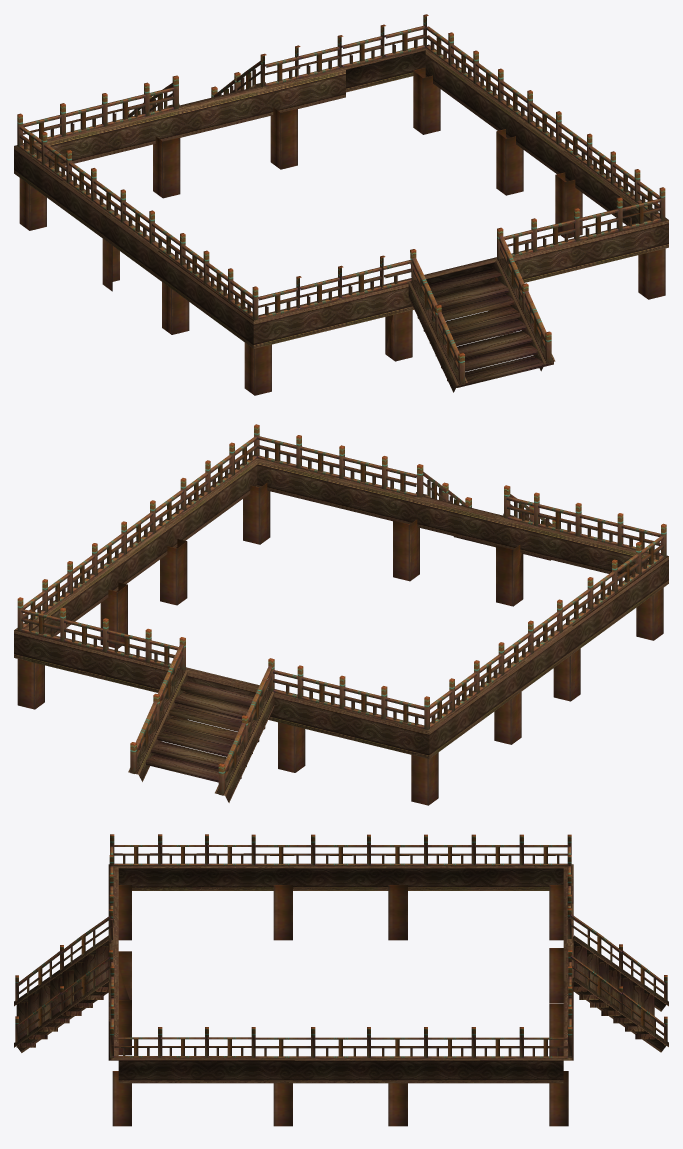
File: 1v1_01_wood_01.FBX
3 renders of one model, top to bottom at view 1: azimuth 30°, elevation 25°; view 2: azimuth 150°, elevation 25°; view 3: azimuth 270°, elevation 25°, orthographic. The views are drawn at different scales.
Visible parts, largest first — view 1: wood, muti1; view 2: wood, muti1; view 3: wood, muti1.
Part boxes in pixels (x1=…): wood: x1=14, y1=14, x2=668, y2=395; muti1: x1=425, y1=44, x2=668, y2=225; wood: x1=14, y1=424, x2=668, y2=805; muti1: x1=14, y1=455, x2=257, y2=635; wood: x1=14, y1=834, x2=668, y2=1126; muti1: x1=109, y1=1057, x2=572, y2=1083.
Bounding box in the file's own units: 53.74 × 13.4 × 75.72.
